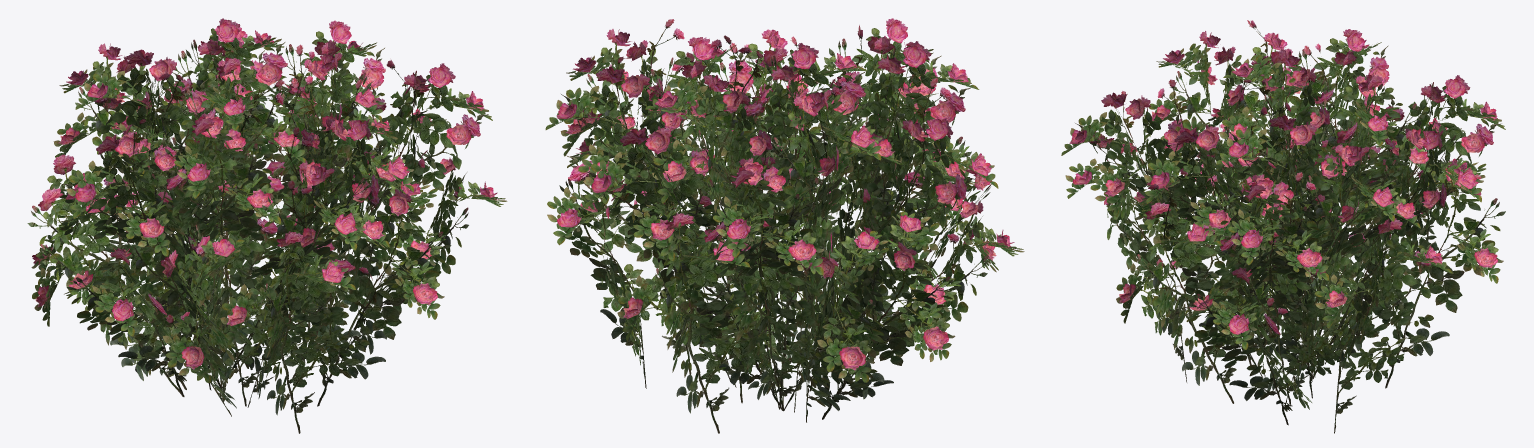
The model's file is tree_j.FBX.
3 renders of one model, left to right at view 1: azimuth 30°, elevation 25°; view 2: azimuth 150°, elevation 25°; view 3: azimuth 270°, elevation 25°, orthographic. The views are drawn at different scales.
Visible parts, largest first — view 1: tree_j; view 2: tree_j; view 3: tree_j.
Boxes of the visible parts, box(x1,y1,x2,y2) form: tree_j: box(27, 18, 507, 433); tree_j: box(545, 18, 1024, 433); tree_j: box(1061, 20, 1505, 433).
Bounding box in the file's own units: 1.24 × 0.9626 × 1.21.
Materials: 1 (1 with a texture image).
